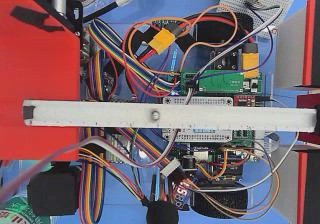ironball: (149, 108, 159, 120)
